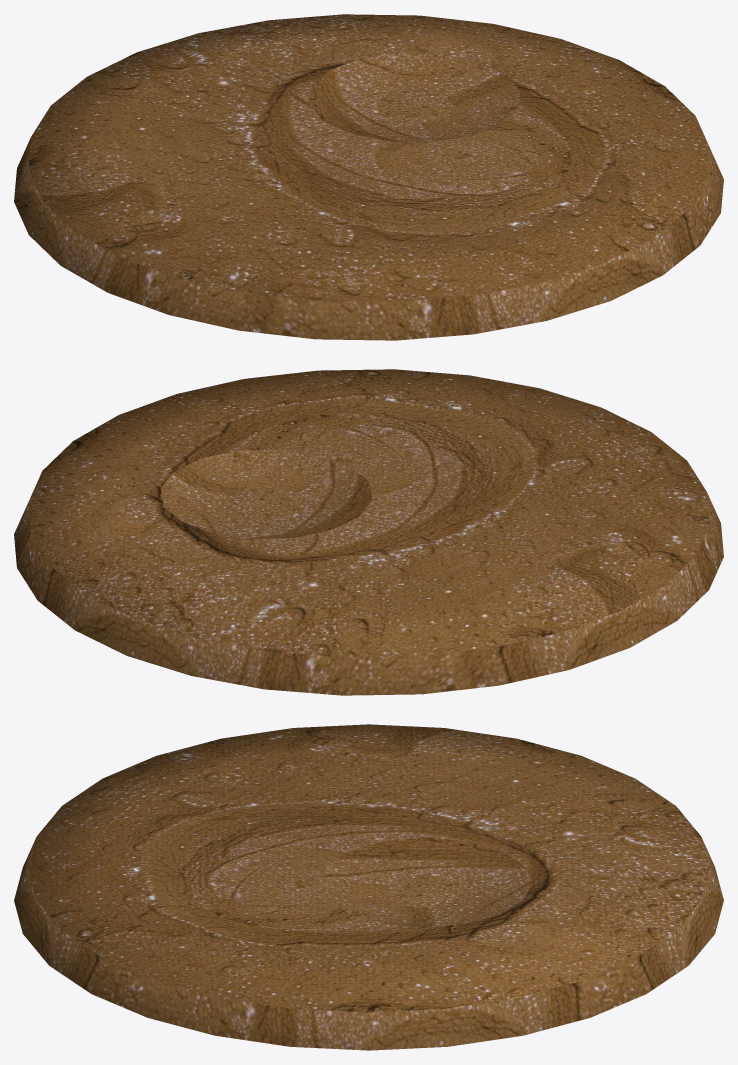
Rendered from gourd-prop-mud-spot.glb.
3 renders of one model, top to bottom at view 1: azimuth 30°, elevation 25°; view 2: azimuth 150°, elevation 25°; view 3: azimuth 270°, elevation 25°, orthographic.
Parts seen in each view (by area): view 1: mud, thumb; view 2: mud, thumb; view 3: mud, thumb.
Boxes of the visible parts, x1,y1,x2,y2 form: mud: [14, 14, 723, 340]; thumb: [308, 52, 520, 142]; mud: [14, 369, 723, 695]; thumb: [160, 449, 372, 538]; mud: [14, 724, 723, 1050]; thumb: [319, 837, 531, 927].
Bounding box in the file's own units: 0.05 × 0.0042 × 0.05.
Materials: 1 (1 with a texture image).
